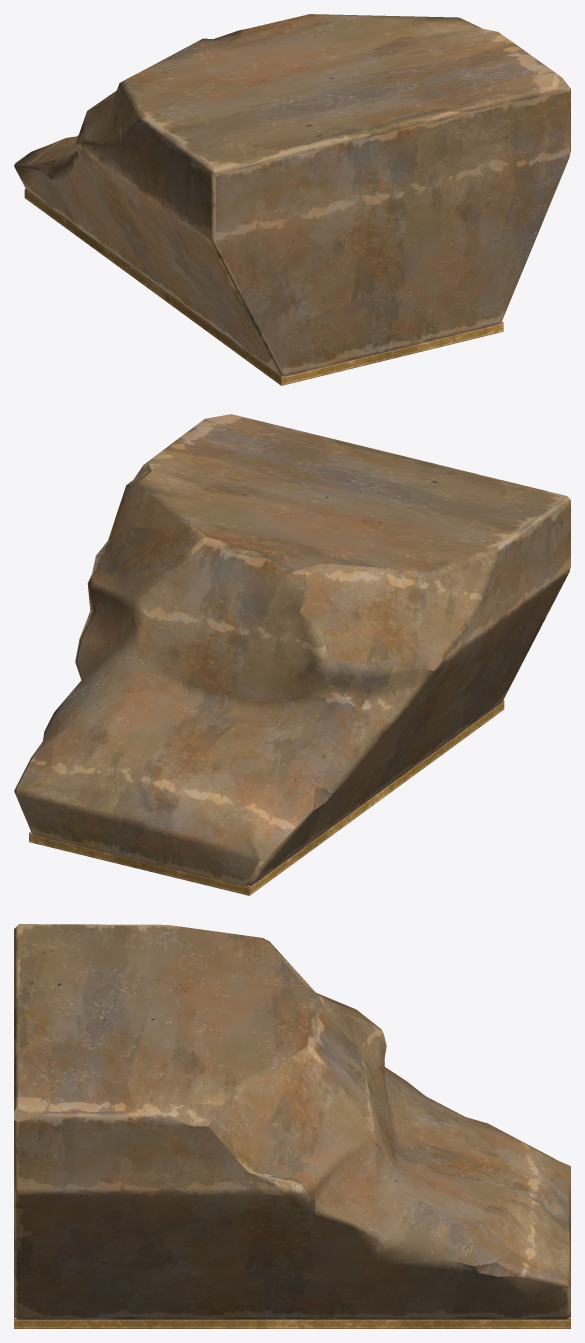
3 views of the same model, one above another, from view 1: azimuth 30°, elevation 25°; view 2: azimuth 150°, elevation 25°; view 3: azimuth 270°, elevation 25° (orthographic). The views are drawn at different scales.
Parts seen in each view (by area): view 1: SM_DK_Crumbled_WallTop_01_LOD0; view 2: SM_DK_Crumbled_WallTop_01_LOD0; view 3: SM_DK_Crumbled_WallTop_01_LOD0.
Part boxes in pixels (<box>): SM_DK_Crumbled_WallTop_01_LOD0: <box>14,14,570,385</box>; SM_DK_Crumbled_WallTop_01_LOD0: <box>14,414,570,895</box>; SM_DK_Crumbled_WallTop_01_LOD0: <box>14,924,570,1328</box>.
Size of the model in its own units: 3.24 by 2 by 4.
Materials: 1 (1 with a texture image).
